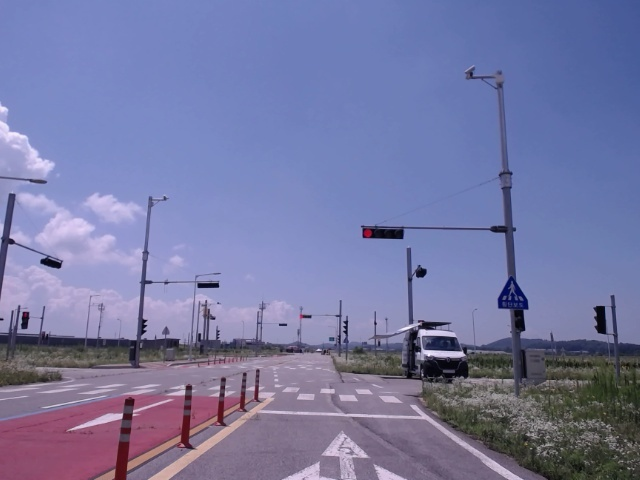red_4: (363, 228, 404, 239)
